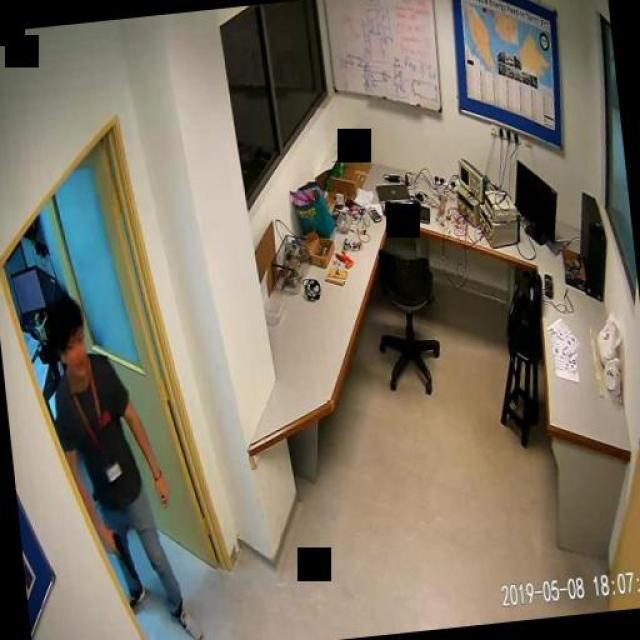gun: (107, 531, 135, 581)
